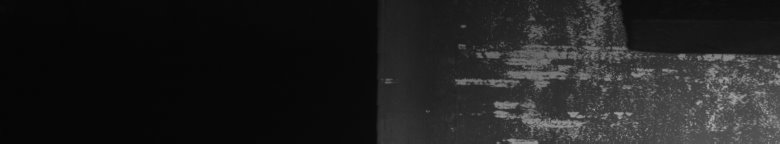kb: (388, 4, 776, 136)
